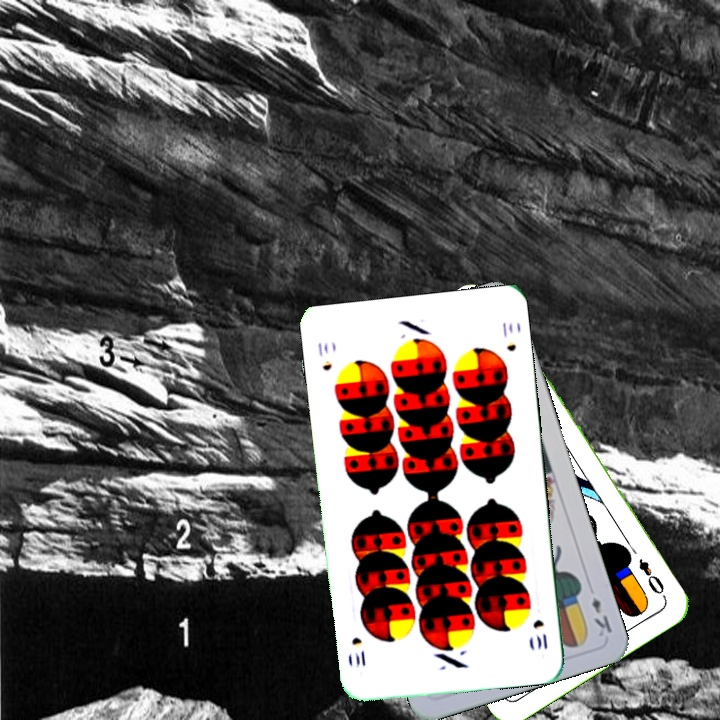EK: (587, 593, 615, 639)
EO: (634, 554, 669, 601)
S10: (529, 615, 550, 652), (314, 338, 334, 373)
